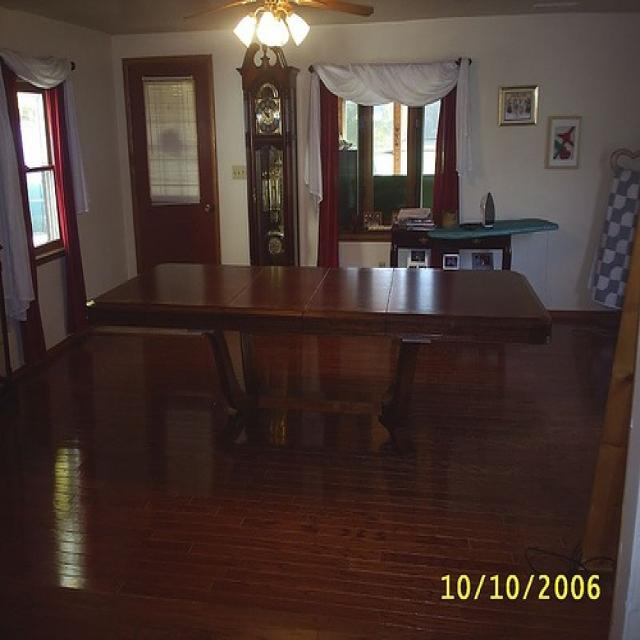diningtable: (85, 266, 554, 465)
